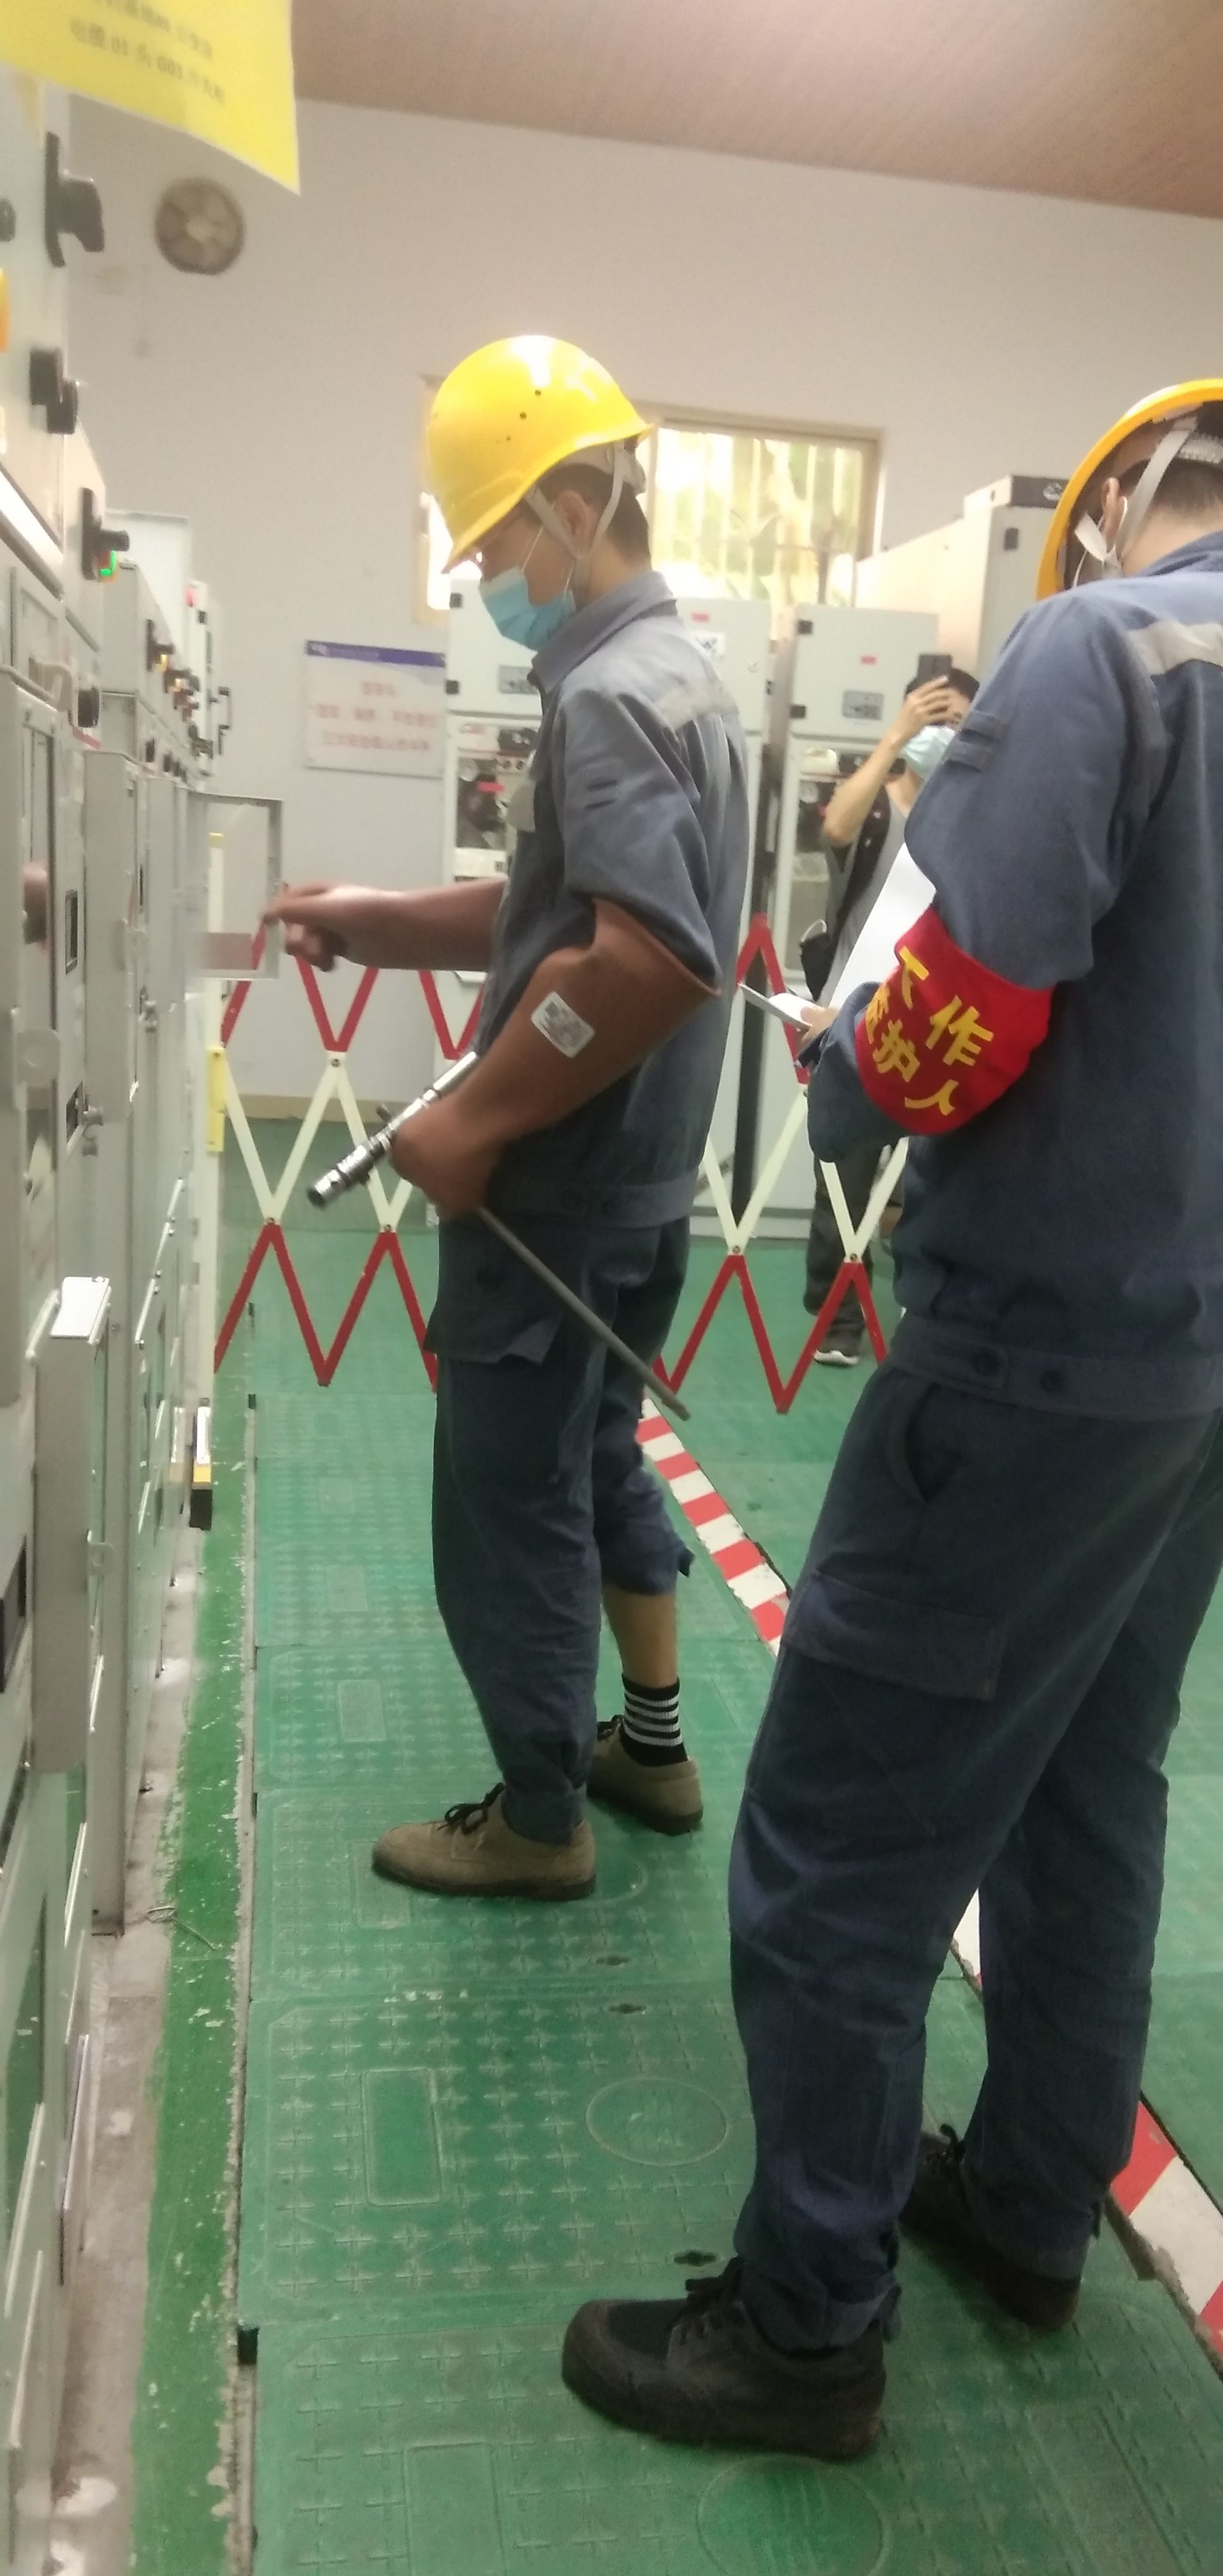downsuit: (727, 1434, 1223, 2323), (425, 1212, 686, 1787)
upsuit: (791, 531, 1223, 1364), (471, 563, 755, 1209)
wrongbottom: (602, 1511, 701, 1722)
